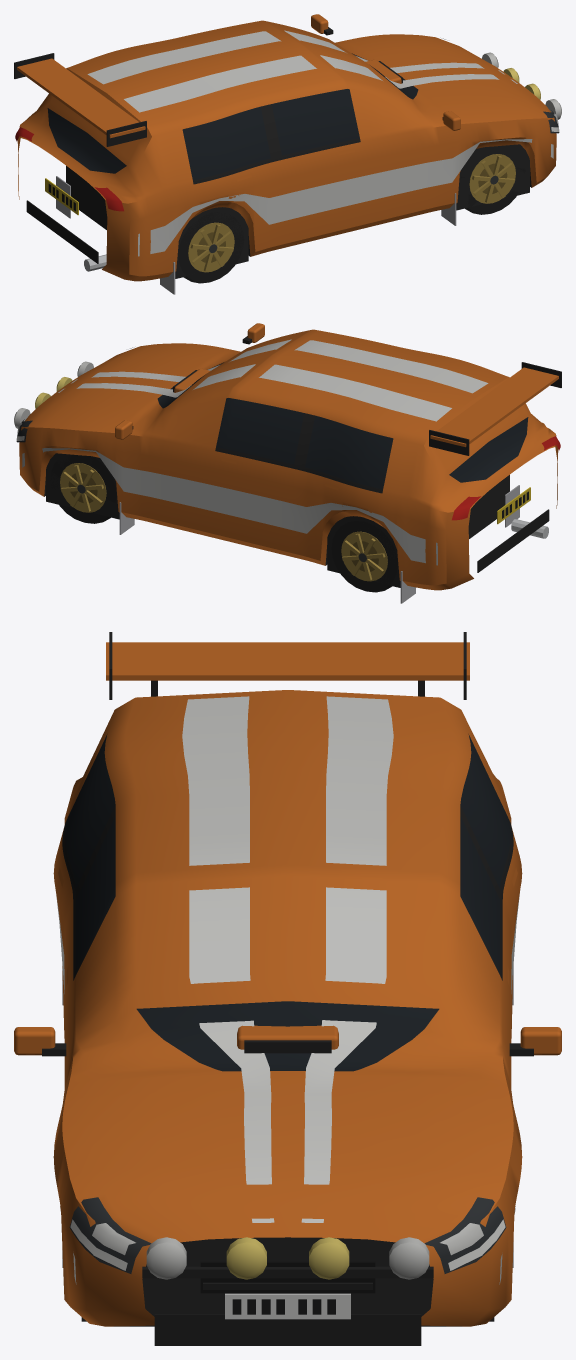
Rendered from SM_Prop_parked_car_115.glb.
3 views of the same model, one above another, from view 1: azimuth 30°, elevation 25°; view 2: azimuth 150°, elevation 25°; view 3: azimuth 270°, elevation 25° (orthographic). The views are drawn at different scales.
Parts seen in each view (by area): view 1: SM_Prop_parked_car_115; view 2: SM_Prop_parked_car_115; view 3: SM_Prop_parked_car_115.
Part boxes in pixels (x1,y1,x2,y2): SM_Prop_parked_car_115: [14, 14, 561, 294]; SM_Prop_parked_car_115: [14, 323, 561, 603]; SM_Prop_parked_car_115: [14, 632, 561, 1345].
Size of the model in its own units: 4.26 by 1.49 by 2.26.
